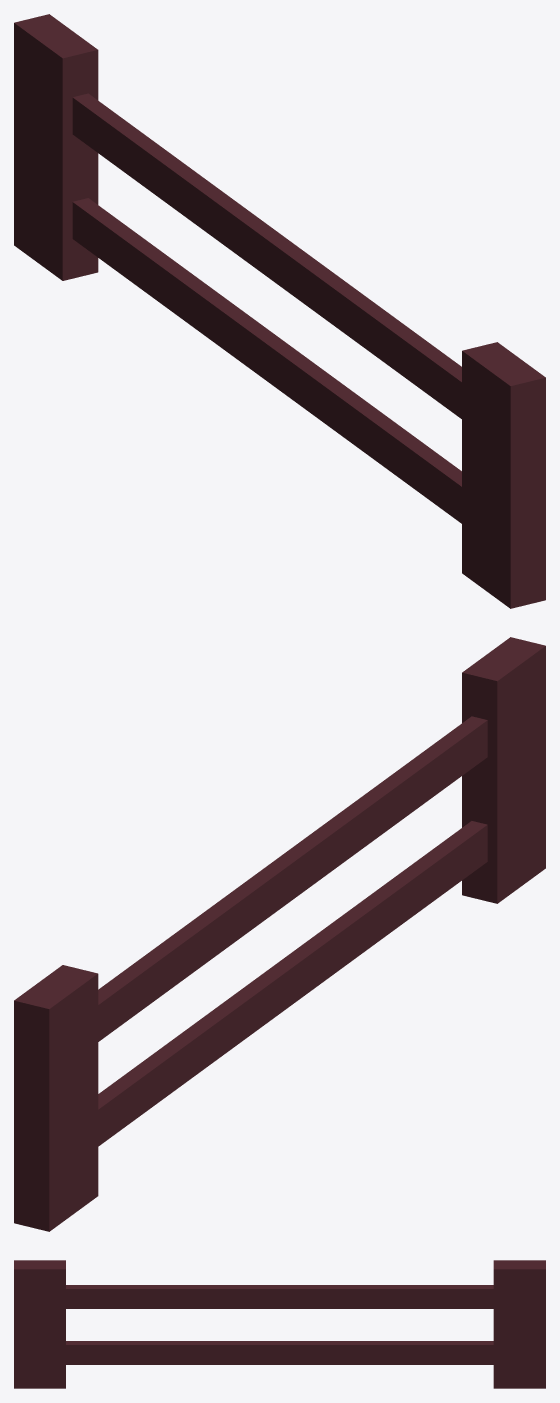
File: railing.fbx
The picture shows the model from 3 angles, top to bottom: view 1: azimuth 30°, elevation 25°; view 2: azimuth 150°, elevation 25°; view 3: azimuth 270°, elevation 25°; orthographic projection. The views are drawn at different scales.
Visible parts, largest first — view 1: Cube.001, Cube.002, Cube.003, Rai;ing; view 2: Rai;ing, Cube.001, Cube.002, Cube.003; view 3: Cube.001, Cube.002, Rai;ing, Cube.003.
Boxes of the visible parts, x1,y1,x2,y2 form: Cube.001: (72,93,461,418); Cube.002: (72,198,461,523); Cube.003: (462,342,545,608); Rai;ing: (14,14,98,280); Rai;ing: (14,965,98,1231); Cube.001: (98,716,487,1041); Cube.002: (98,821,487,1146); Cube.003: (462,637,545,903); Cube.001: (66,1285,493,1308); Cube.002: (66,1341,493,1364); Rai;ing: (493,1260,545,1388); Cube.003: (14,1260,65,1388).
Bounding box in the file's own units: 19.74 × 119 × 480.
